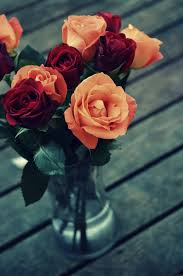lale: (65, 72, 148, 162), (0, 76, 58, 135), (121, 13, 170, 81), (9, 54, 72, 103), (95, 25, 144, 84), (58, 7, 105, 63), (41, 41, 92, 79)
